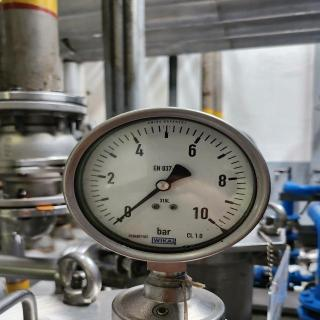gauge: (62, 108, 272, 264), (192, 206, 228, 234), (110, 205, 133, 232), (157, 181, 169, 190), (113, 221, 116, 225)
